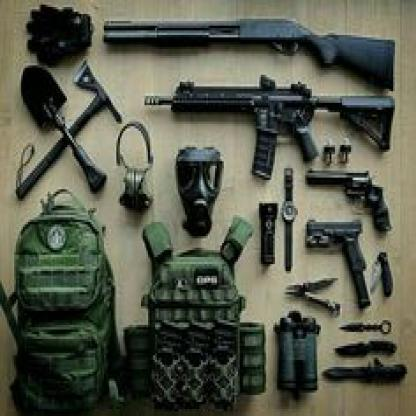Gun: (143, 73, 398, 185), (103, 15, 397, 94)
Knife: (321, 357, 407, 387), (334, 337, 398, 359), (370, 249, 394, 301), (339, 321, 393, 336)
Pistol: (303, 217, 372, 313), (304, 165, 394, 234)
